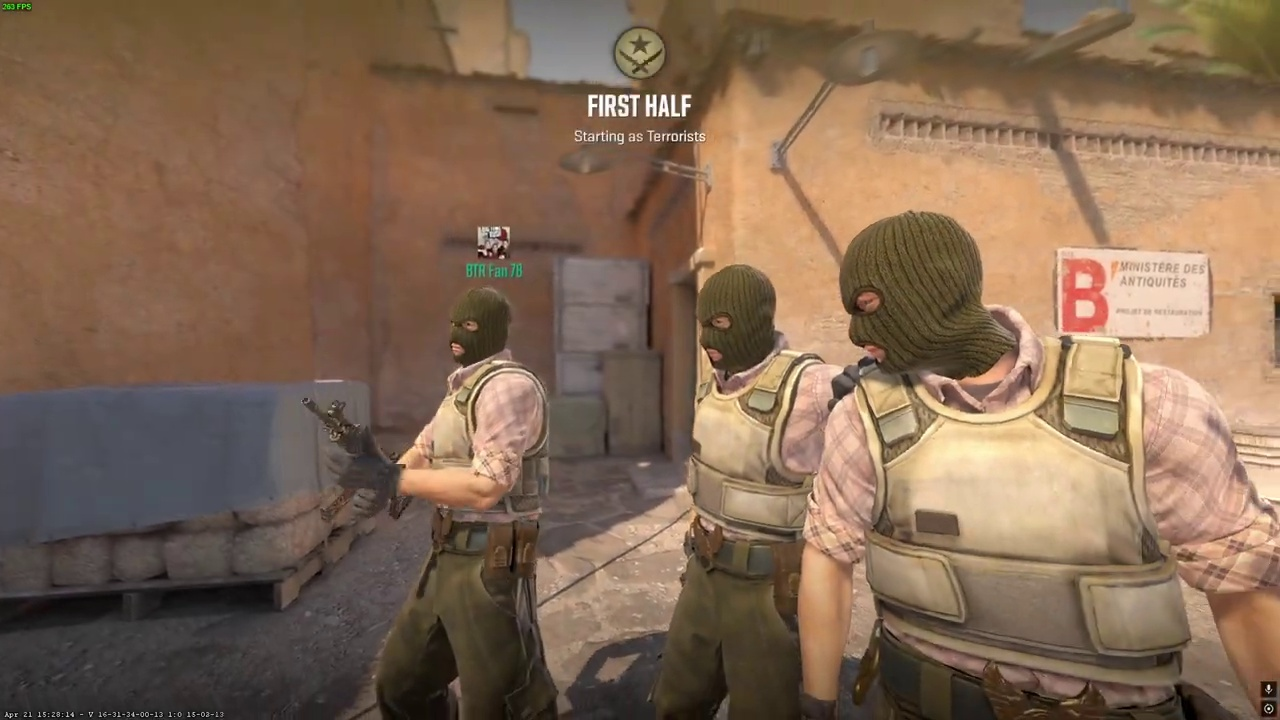Terrorist: (802, 208, 1264, 720), (641, 266, 852, 720), (370, 286, 560, 720), (559, 497, 574, 498)
